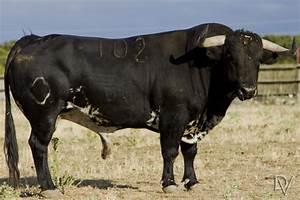cow: (2, 22, 290, 193)
